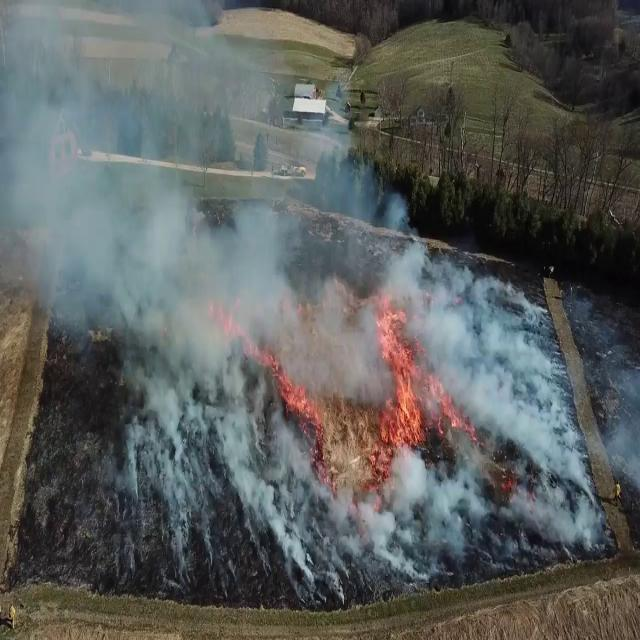Fire: (265, 357, 383, 532), (370, 284, 428, 458)
Smoke: (0, 5, 353, 562), (364, 214, 604, 570)
